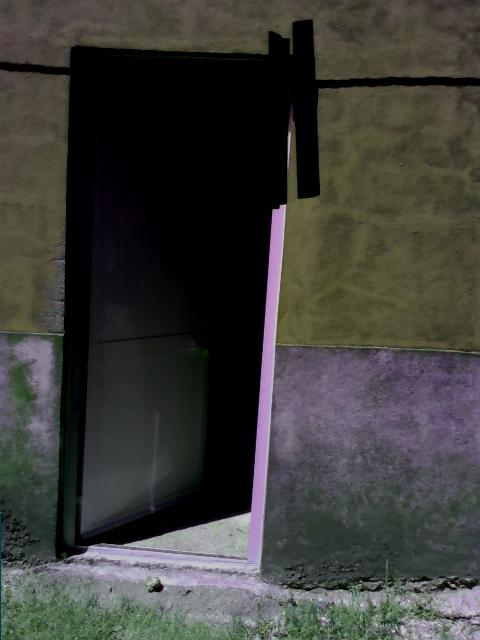semi_door: (54, 43, 287, 565)
